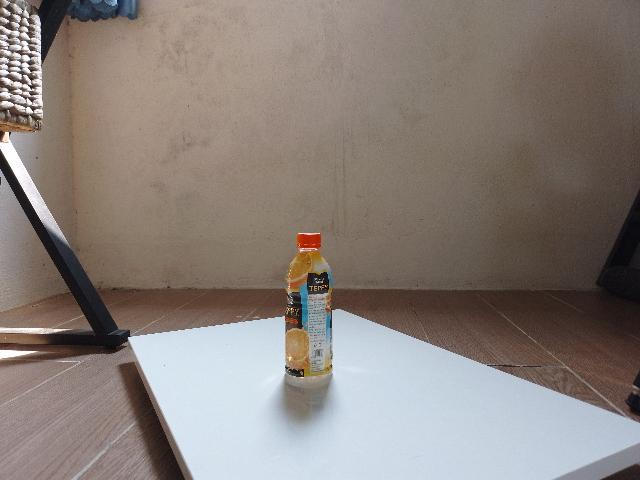teppy_orange_juice: (284, 232, 334, 378)
